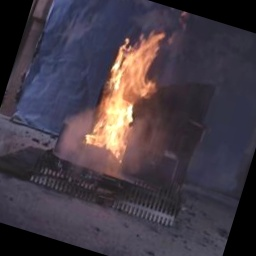fire: (82, 15, 170, 165)
